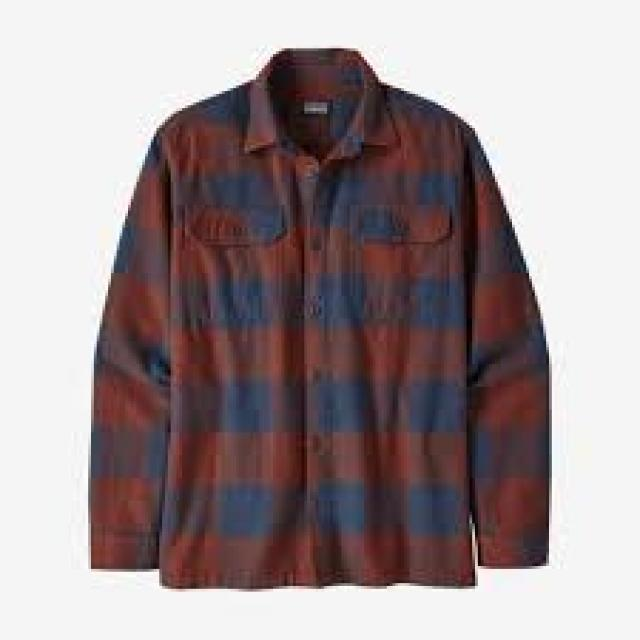plaid: (85, 40, 561, 596)
